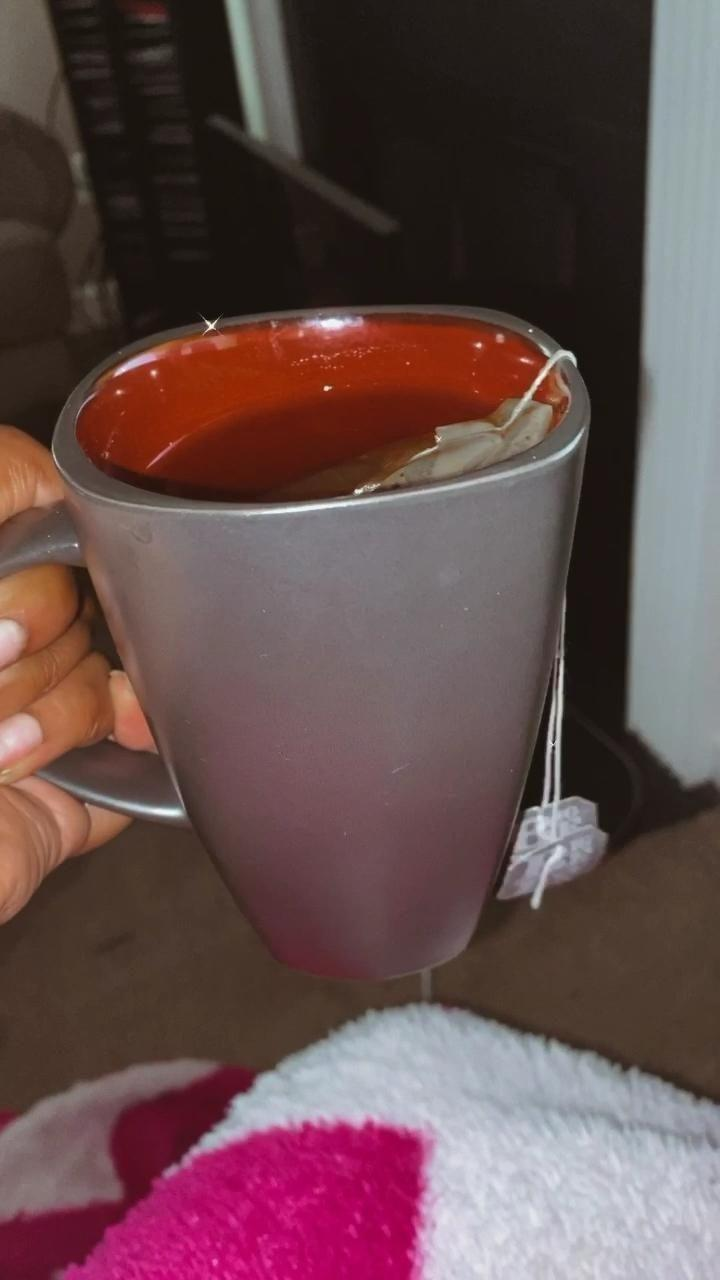cup-handle: (4, 301, 598, 982)
